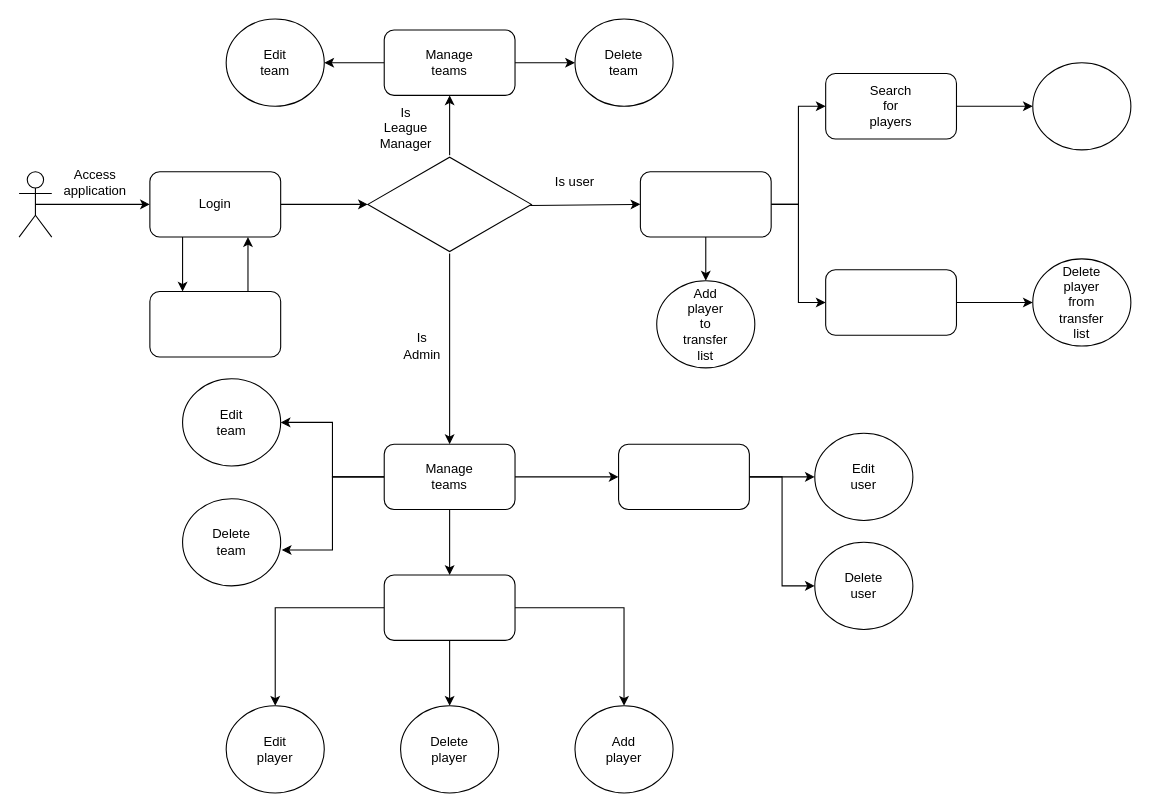
The diagram is 1150 pixels wide and 812 high, and some of its shapes have lost their labels. Here are the shapes that lost their labels. From the top down, the centre of each, then its label:
At (x=1081, y=106): "Buy player".
At (x=35, y=204): "User".
At (x=449, y=203): "Check role".
At (x=705, y=204): "Manage team component".
At (x=890, y=302): "Manage users that are in transfer list".
At (x=215, y=323): "Register".
At (x=683, y=476): "Manage users".
At (x=449, y=607): "Manage players".
